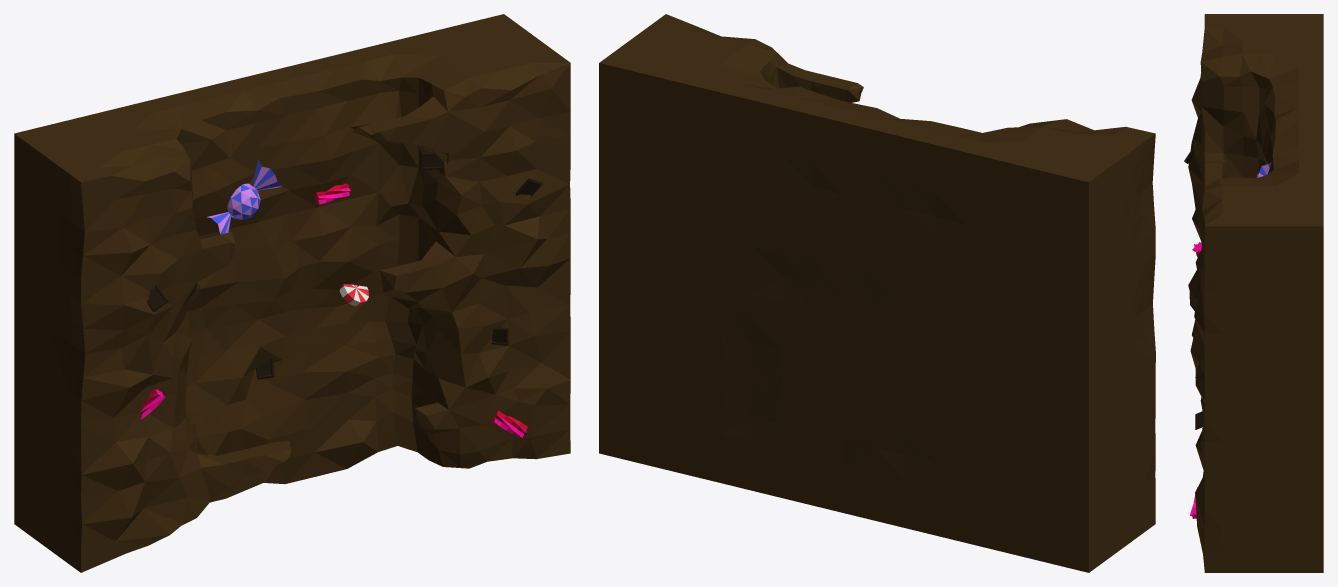
Rendered from level_Module_04.fbx.
3 renders of one model, left to right at view 1: azimuth 30°, elevation 25°; view 2: azimuth 150°, elevation 25°; view 3: azimuth 270°, elevation 25°, orthographic. The views are drawn at different scales.
Visible parts, largest first — view 1: Cube, Candy; view 2: Cube; view 3: Cube.
Part boxes in pixels (x1,y1,x2,y2): Cube: (14, 14, 570, 572); Candy: (207, 159, 282, 234); Cube: (599, 14, 1155, 572); Cube: (1188, 14, 1323, 572).
Bounding box in the file's own units: 2100 × 1600 × 582.
